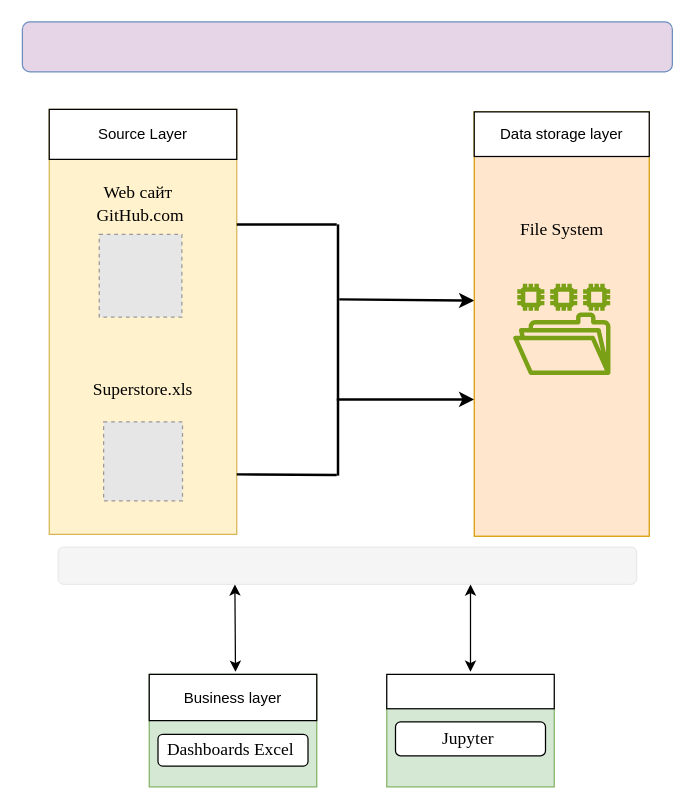
Some shapes in this 694 by 809 pixel diagram are drawn without their labels. Grey dashed boxes stand in for pictures. The box of each missing label's shape, as (x1, y1, x2, y2) in pixels:
Access layer: (386, 673, 554, 709)
Architecture: (21, 21, 672, 72)
